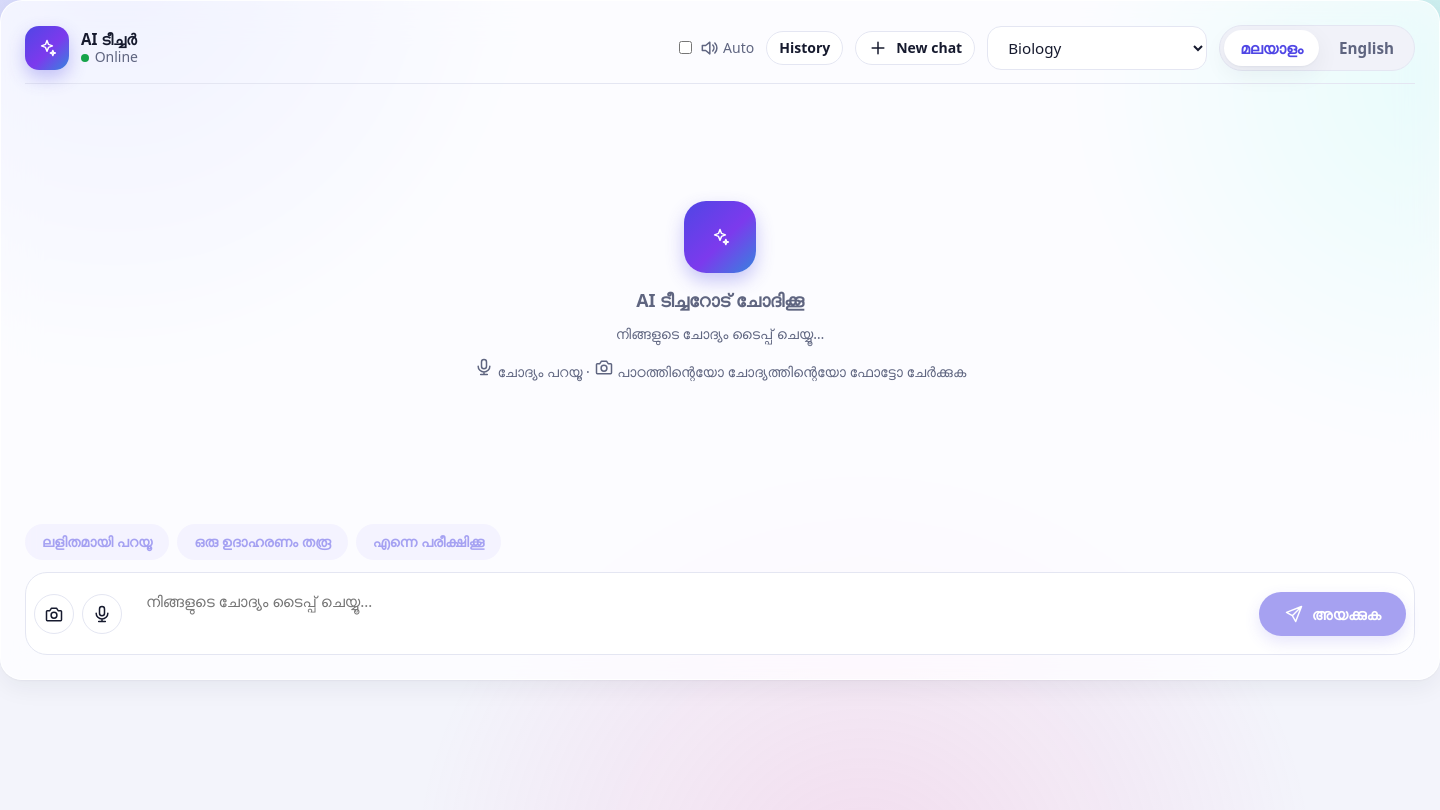
AI Teacher › shows the child-friendly reason when a question is blocked
The image size is (1440, 810).
Type "my phone is 9876543210" into the text box labelled "നിങ്ങളുടെ ചോദ്യം ടൈപ്പ് ചെയ്യൂ…".
click(690, 614); type("my phone is 9876543210")  # box [130, 581, 1251, 646]
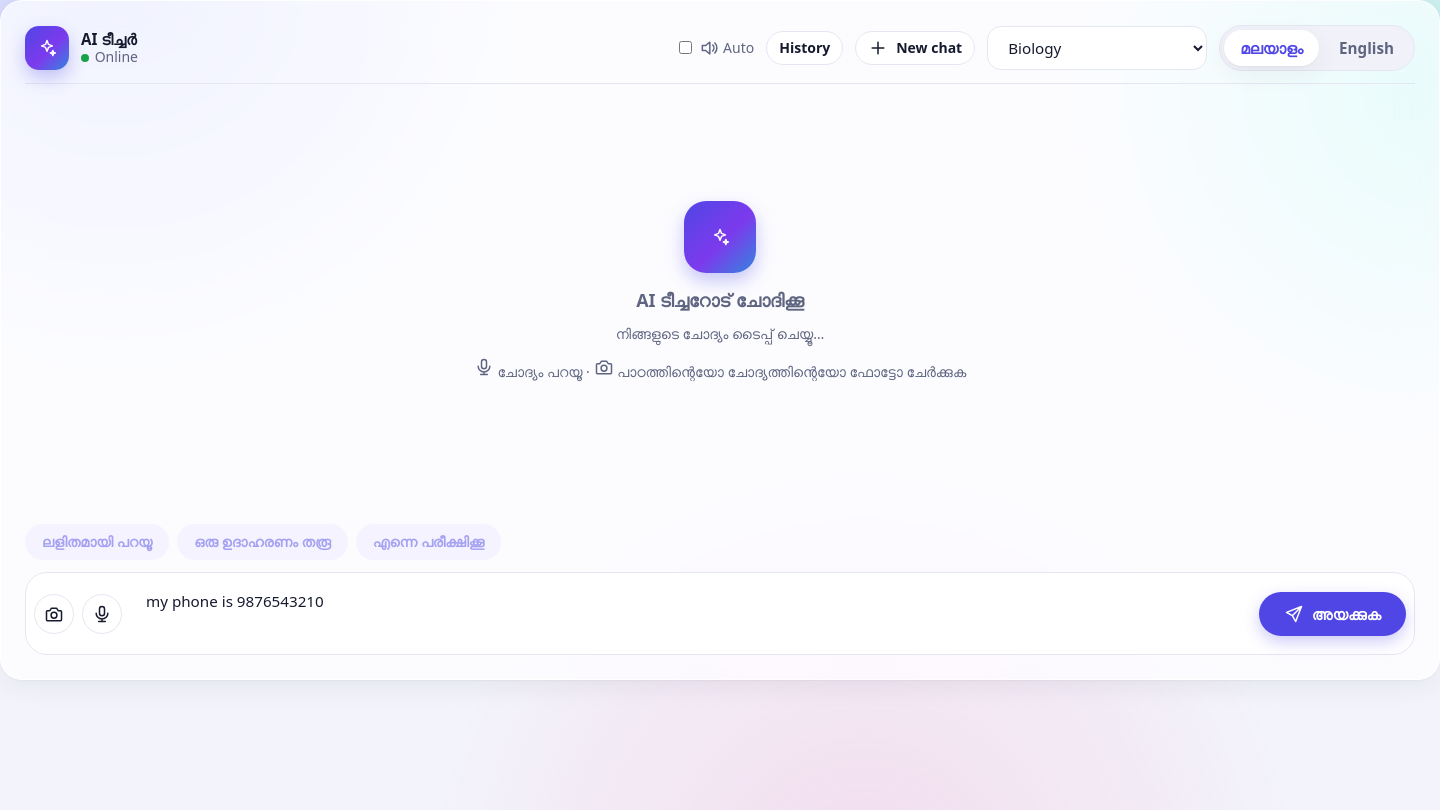
Click the button "അയക്കുക".
click(1332, 614)  # box [1259, 592, 1406, 636]
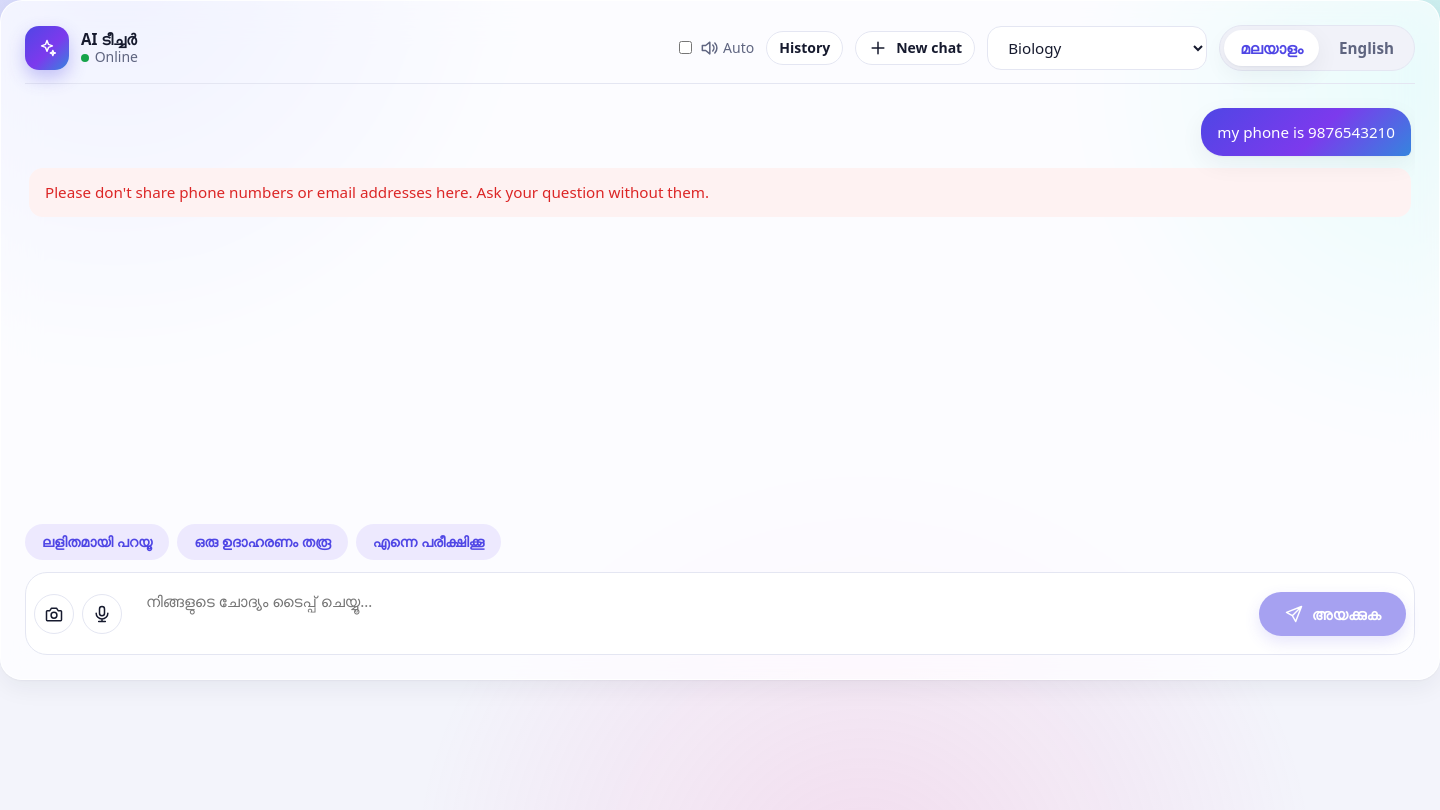
Result: the message shows "Please don't share phone numbers" at [45, 182, 709, 202]
